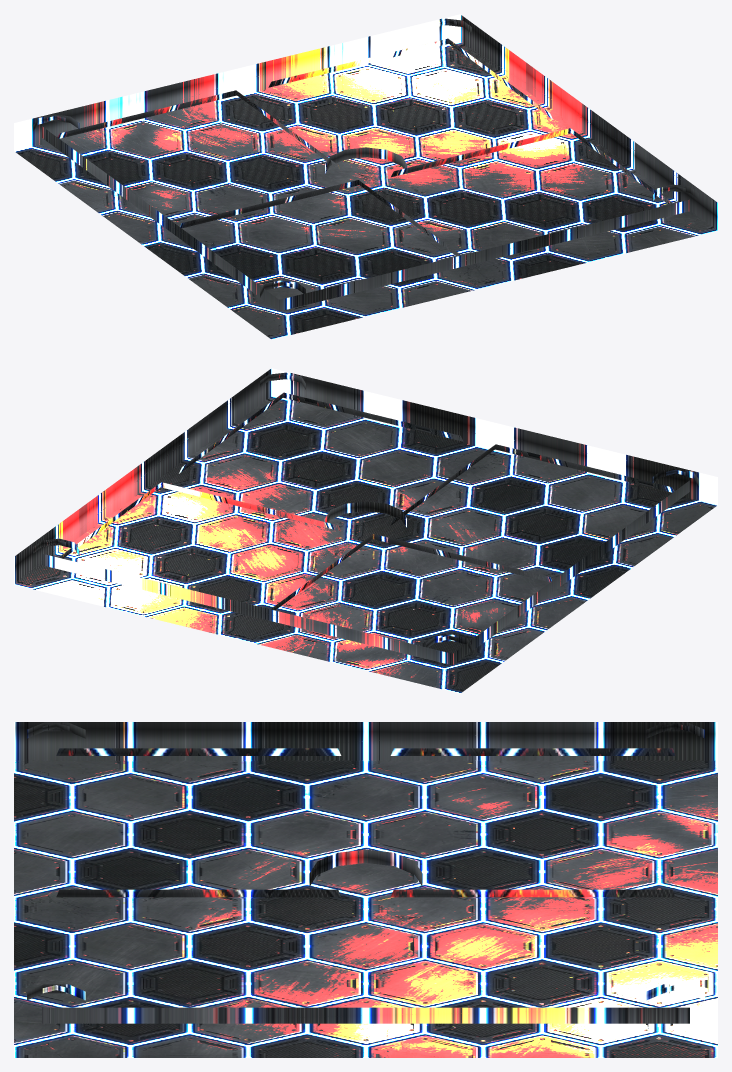
Rendered from ground_tech.glb.
The picture shows the model from 3 angles, top to bottom: view 1: azimuth 30°, elevation 25°; view 2: azimuth 150°, elevation 25°; view 3: azimuth 270°, elevation 25°; orthographic projection. The views are drawn at different scales.
Parts seen in each view (by area): view 1: Ground_Tech; view 2: Ground_Tech; view 3: Ground_Tech.
Part boxes in pixels (box(x1,y1,x2,y2)): Ground_Tech: box(14, 14, 717, 339); Ground_Tech: box(14, 368, 717, 693); Ground_Tech: box(14, 722, 717, 1057).
Size of the model in its own units: 1 by 0.078 by 1.
1 material, 1 textured.
